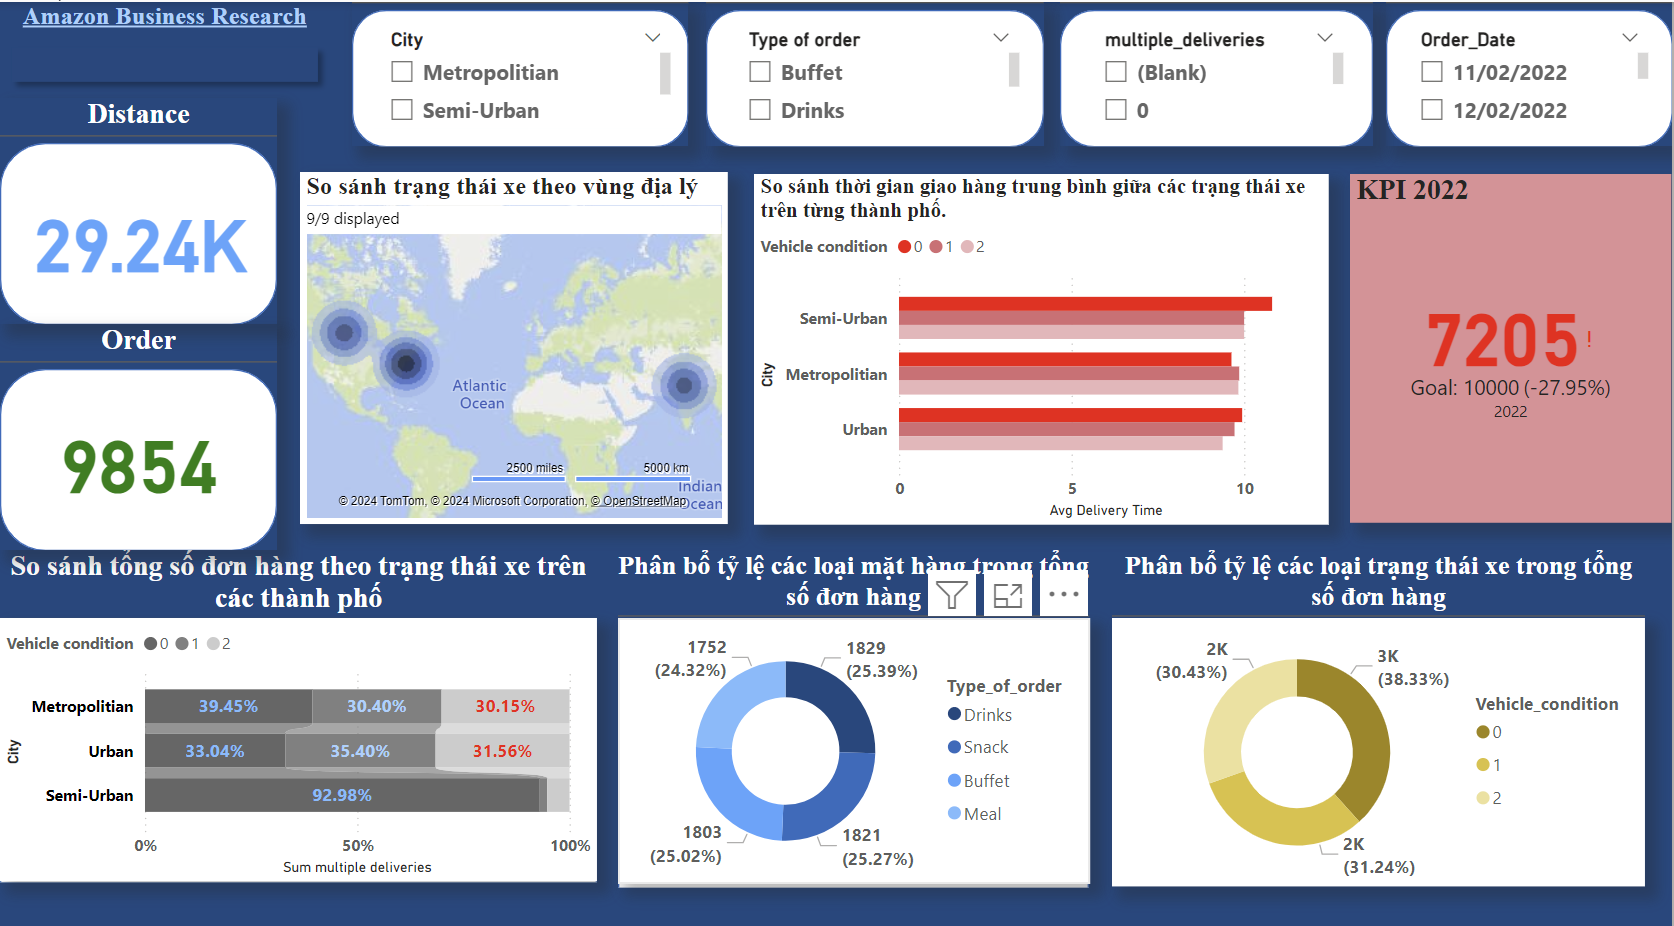

This screenshot's page, from the dashboard's own definition file:
{"tool":"powerbi","page":{"name":"Vehicle condition","canvas":[1280,720],"ordinal":0},"visuals":[{"type":"shape","title":"Amazon Business Research","box":[0,0,252.4,70],"z":0},{"type":"shape","box":[269.3,0,257.7,110.3],"z":1000},{"type":"shape","title":"Distance","box":[0,73.2,212.1,172.8],"z":2000},{"type":"shape","title":"So sánh tổng số đơn hàng theo trạng thái xe trên các thành phố","box":[0,418.9,457,254.5],"z":3000},{"type":"shape","box":[540.8,0,258.7,110.3],"z":4000},{"type":"shape","box":[811.2,0,239.6,110.3],"z":5000},{"type":"slicer","fields":{"Values":["Order Information.City"]},"box":[286.3,15.9,232.2,81.6],"z":6000},{"type":"slicer","fields":{"Values":["Order Information.Type_of_order"]},"box":[559.9,15.9,224.8,83.8],"z":7000},{"type":"slicer","fields":{"Values":["Delivery Information.multiple_deliveries"]},"box":[833.5,15.9,200.4,88],"z":8000},{"type":"card","fields":{"Values":["Sum(Delivery Location Information.Distance)"]},"box":[8.5,130.4,196.2,99.7],"z":9000},{"type":"shape","title":"Order","box":[0,246,212.1,172.8],"z":10000},{"type":"card","fields":{"Values":["CountNonNull(Delivery Information.multiple_deliveries)"]},"box":[20.1,291.6,172.8,116.6],"z":11000},{"type":"shape","box":[1060.4,0,219.5,110.3],"z":12000},{"type":"slicer","fields":{"Values":["Order Information.Order_Date"]},"box":[1075.2,15.9,191.9,88],"z":13000},{"type":"shape","title":"Phân bổ tỷ lệ các loại mặt hàng trong tổng số đơn hàng","box":[472.9,418.9,360.5,258.7],"z":14000},{"type":"hundredPercentStackedBarChart","fields":{"Y":["Sum(Delivery Information.multiple_deliveries)"],"Category":["Order Information.City"],"Series":["Delivery Information.Vehicle_condition"]},"box":[0,471.9,457,201.5],"z":15000},{"type":"donutChart","fields":{"Y":["Sum(Delivery Information.multiple_deliveries)"],"Category":["Order Information.Type_of_order"]},"box":[472.9,471.9,361.6,203.6],"z":16000},{"type":"shape","title":"Phân bổ tỷ lệ các loại trạng thái xe trong tổng số đơn hàng","box":[851.5,418.9,408.2,256.6],"z":17000},{"type":"donutChart","fields":{"Y":["Sum(Delivery Information.multiple_deliveries)"],"Category":["Delivery Information.Vehicle_condition"]},"box":[851.5,471.9,408.2,205.7],"z":18000},{"type":"heatmapF244EA9EE1F34E828A80CF19B41976F8","title":" So sánh trạng thái xe theo vùng địa lý","fields":{"location":["Order Information.City"],"value":["Sum(Delivery Information.multiple_deliveries)"],"group":["Delivery Information.Vehicle_condition"]},"box":[229,130.4,327.7,269.3],"z":19000},{"type":"clusteredBarChart","title":"So sánh thời gian giao hàng trung bình giữa các trạng thái xe trên từng thành phố.","fields":{"Category":["Order Information.City"],"Y":["Order Information.Avg Delivery Time"],"Series":["Delivery Information.Vehicle_condition"]},"box":[577.9,131.5,440.1,268.3],"z":20000},{"type":"kpi","title":"KPI 2022","fields":{"Indicator":["Sum(Delivery Information.multiple_deliveries)"],"Goal":["Order Information.KPI_order"],"TrendLine":["Order Information.Order_Date.Variation.Date Hierarchy.Year"]},"box":[1033.9,131.5,246,267.2],"z":21000}]}

Visuals, with their boxes in screenshot pixels (x1, y1, x2, y2), scaled from the page's 1280x720 canvas onto the 1674x926 screenshot:
"Amazon Business Research" shape: [left=0, top=0, right=330, bottom=90]
shape: [left=352, top=0, right=689, bottom=142]
"Distance" shape: [left=0, top=94, right=277, bottom=316]
"So sánh tổng số đơn hàng theo trạng thái xe trên các thành phố" shape: [left=0, top=539, right=598, bottom=866]
shape: [left=707, top=0, right=1046, bottom=142]
shape: [left=1061, top=0, right=1374, bottom=142]
slicer - Order Information.City: [left=374, top=20, right=678, bottom=125]
slicer - Order Information.Type_of_order: [left=732, top=20, right=1026, bottom=128]
slicer - Delivery Information.multiple_deliveries: [left=1090, top=20, right=1352, bottom=134]
card - Sum(Delivery Location Information.Distance): [left=11, top=168, right=268, bottom=296]
"Order" shape: [left=0, top=316, right=277, bottom=539]
card - CountNonNull(Delivery Information.multiple_deliveries): [left=26, top=375, right=252, bottom=525]
shape: [left=1387, top=0, right=1673, bottom=142]
slicer - Order Information.Order_Date: [left=1406, top=20, right=1657, bottom=134]
"Phân bổ tỷ lệ các loại mặt hàng trong tổng số đơn hàng" shape: [left=618, top=539, right=1090, bottom=871]
hundredPercentStackedBarChart - Sum(Delivery Information.multiple_deliveries) x Order Information.City: [left=0, top=607, right=598, bottom=866]
donutChart - Sum(Delivery Information.multiple_deliveries) x Order Information.Type_of_order: [left=618, top=607, right=1091, bottom=869]
"Phân bổ tỷ lệ các loại trạng thái xe trong tổng số đơn hàng" shape: [left=1114, top=539, right=1647, bottom=869]
donutChart - Sum(Delivery Information.multiple_deliveries) x Delivery Information.Vehicle_condition: [left=1114, top=607, right=1647, bottom=871]
" So sánh trạng thái xe theo vùng địa lý" heatmapF244EA9EE1F34E828A80CF19B41976F8: [left=299, top=168, right=728, bottom=514]
"So sánh thời gian giao hàng trung bình giữa các trạng thái xe trên từng thành phố." clusteredBarChart: [left=756, top=169, right=1331, bottom=514]
"KPI 2022" kpi: [left=1352, top=169, right=1673, bottom=513]
